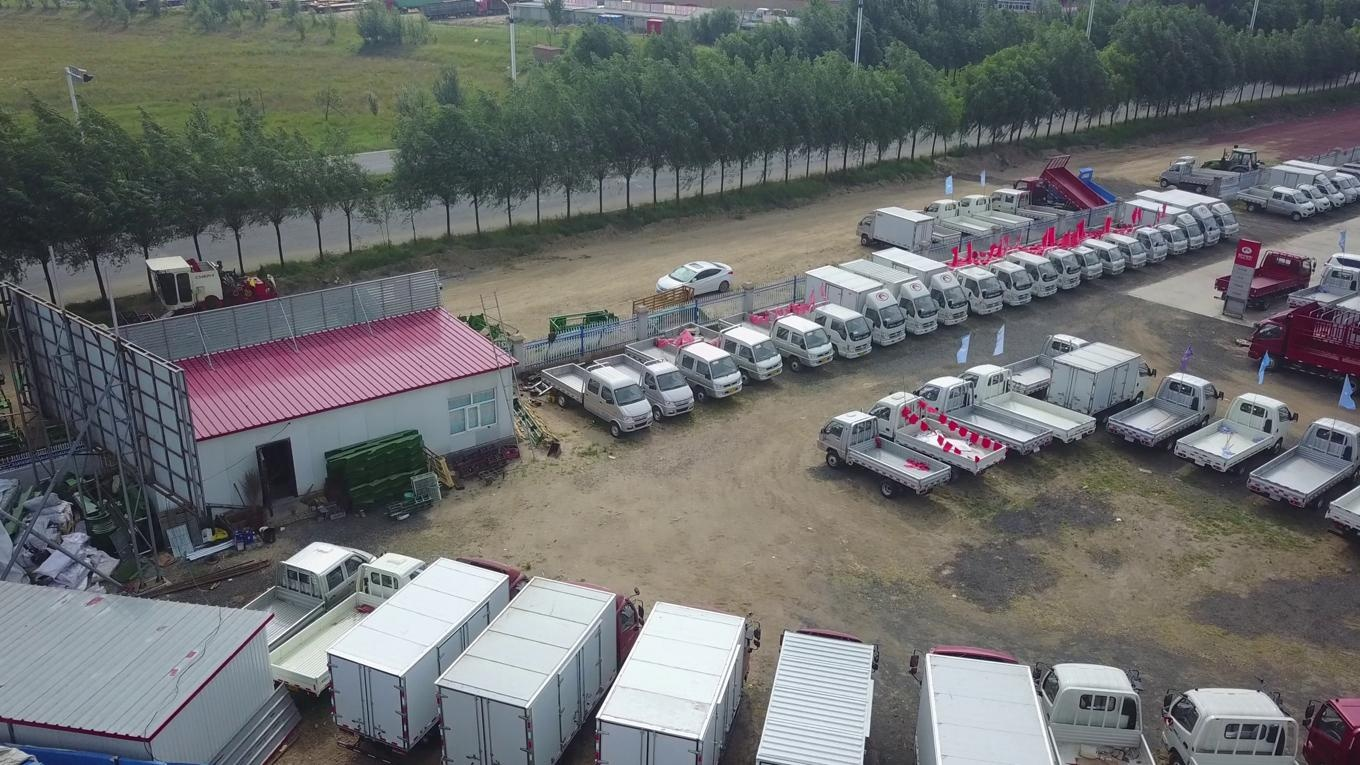car: (1246, 417, 1360, 513), (654, 261, 730, 298)
others: (122, 255, 280, 344), (1199, 146, 1262, 181)
truck: (328, 554, 520, 765), (430, 573, 640, 765), (596, 600, 764, 763), (250, 553, 427, 693), (206, 540, 377, 667), (910, 645, 1055, 765), (757, 626, 881, 765), (1033, 661, 1158, 763), (815, 410, 953, 497), (870, 392, 1007, 479), (907, 376, 1053, 455), (957, 364, 1095, 443), (1170, 393, 1299, 477), (1105, 372, 1225, 450), (1044, 341, 1156, 422), (1245, 308, 1360, 385), (537, 363, 655, 437), (801, 265, 906, 345), (834, 257, 939, 336), (872, 246, 969, 327), (624, 337, 743, 403), (660, 321, 783, 382), (718, 310, 836, 372), (588, 353, 694, 420), (1011, 152, 1106, 223), (1213, 247, 1318, 308), (772, 299, 874, 359), (997, 333, 1089, 397), (911, 253, 1005, 313), (946, 248, 1034, 306), (1133, 190, 1221, 247), (1116, 199, 1205, 253), (991, 245, 1082, 292), (974, 249, 1062, 295), (985, 187, 1072, 233), (853, 205, 933, 255), (1159, 187, 1238, 236), (1002, 243, 1103, 280), (1264, 165, 1345, 211), (1279, 158, 1359, 204), (957, 194, 1034, 237), (923, 199, 999, 242), (1288, 267, 1359, 312), (1109, 222, 1188, 260), (1239, 184, 1315, 223), (1052, 169, 1116, 213), (895, 208, 962, 249), (1257, 182, 1331, 218), (1102, 224, 1168, 263), (1171, 155, 1247, 187), (1156, 162, 1225, 192), (1312, 164, 1360, 199)
van: (1083, 237, 1127, 276), (1101, 232, 1148, 268), (1321, 252, 1360, 291)
